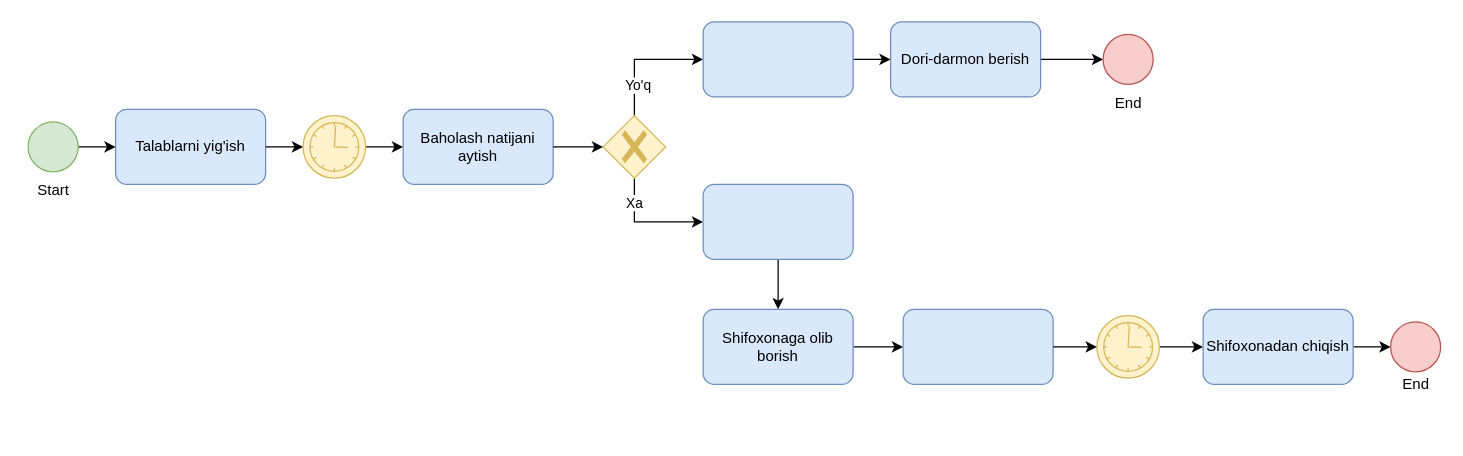
Image size: 1463x456. Some labels were removed from this diagram. Here are the shapes that lost their labels. From the top down, the box of each, then its label:
(702, 21, 853, 97): Yengil tashxis
(702, 183, 853, 259): Engil jarahotlar
(902, 308, 1053, 384): Davolash
